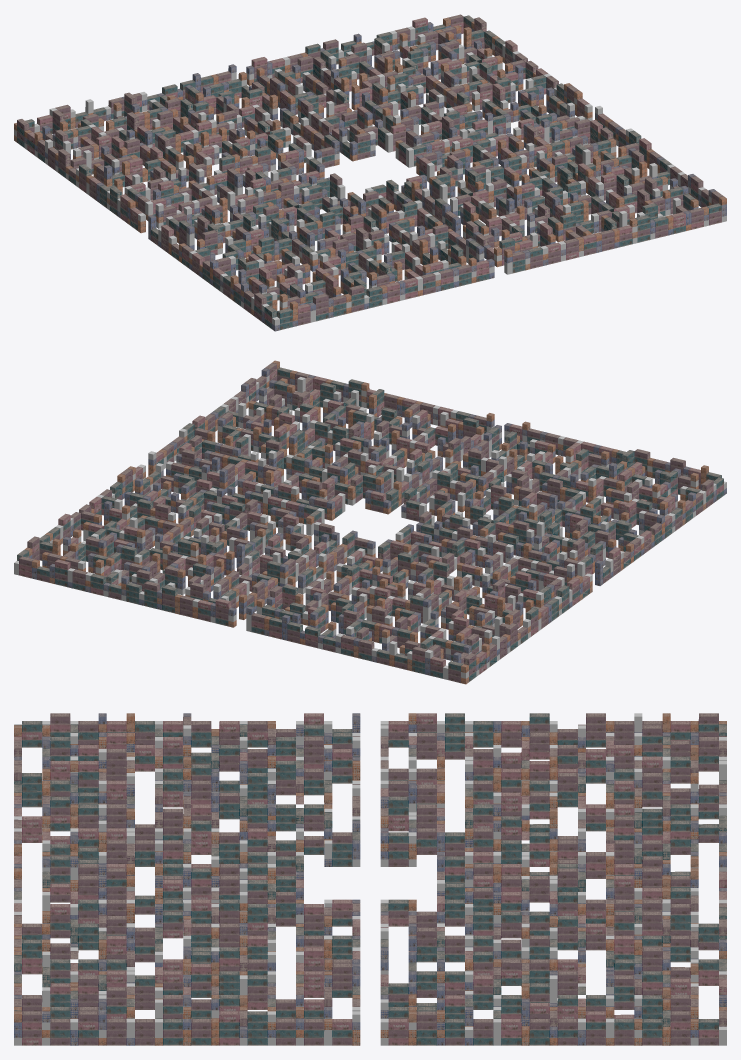
File: PackedContainerOptimized.fbx
The picture shows the model from 3 angles, top to bottom: view 1: azimuth 30°, elevation 25°; view 2: azimuth 150°, elevation 25°; view 3: azimuth 270°, elevation 25°; orthographic projection. The views are drawn at different scales.
Parts seen in each view (by area): view 1: PackedContainer; view 2: PackedContainer; view 3: PackedContainer.
Part boxes in pixels (x1,y1,x2,y2): PackedContainer: (14, 14, 726, 331); PackedContainer: (14, 360, 726, 684); PackedContainer: (14, 713, 726, 1045).
Size of the model in its own units: 10790 by 518 by 10790.
